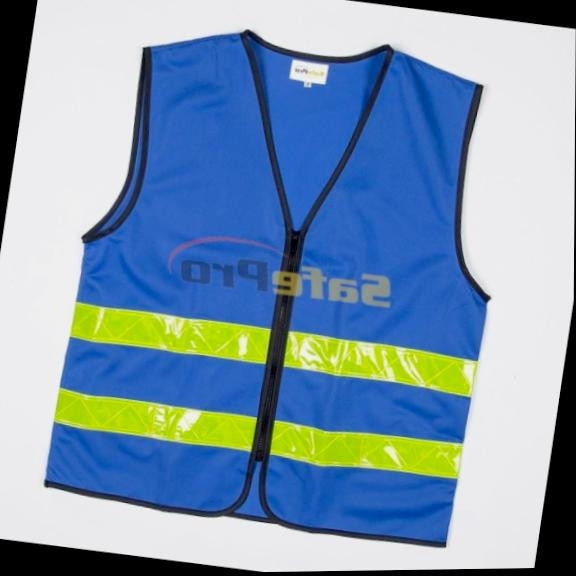safety_vest: (39, 0, 525, 557)
